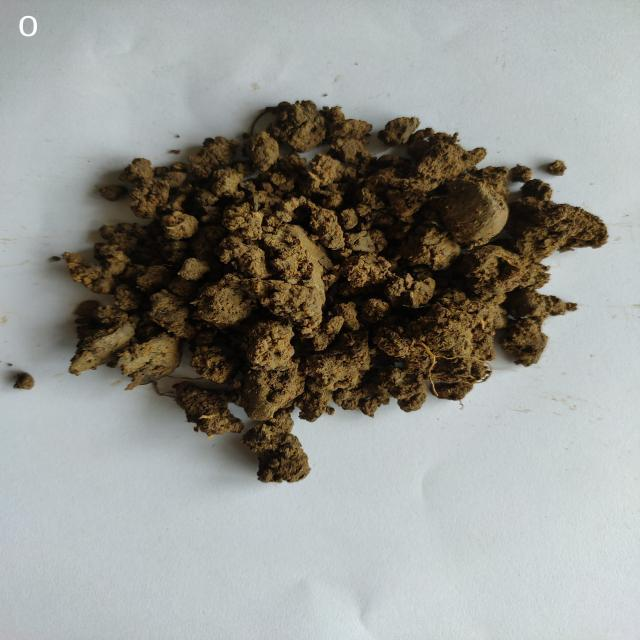soil: (173, 184, 478, 338)
